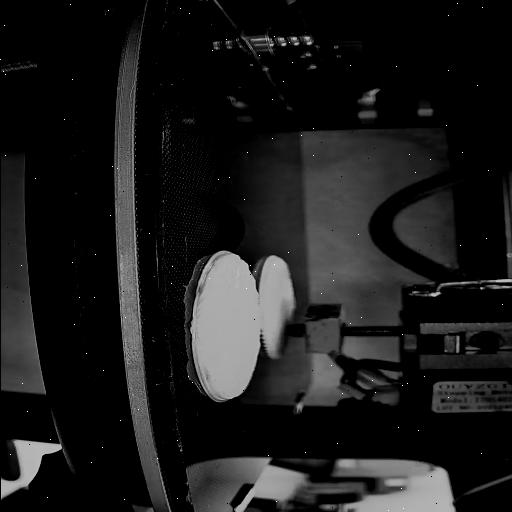over_extrusion: (204, 252, 238, 266)
